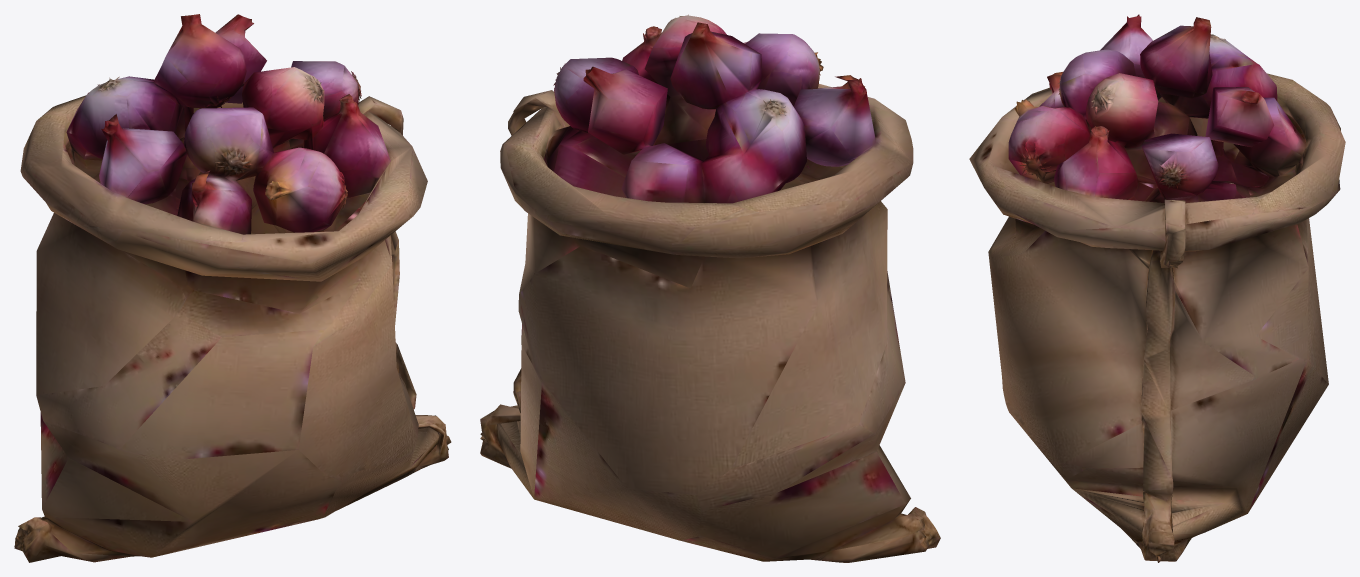
The model's file is onions.glb.
The picture shows the model from 3 angles, left to right: view 1: azimuth 30°, elevation 25°; view 2: azimuth 150°, elevation 25°; view 3: azimuth 270°, elevation 25°; orthographic projection. The views are drawn at different scales.
Parts seen in each view (by area): view 1: node_0; view 2: node_0; view 3: node_0.
Boxes of the visible parts, box(x1,y1,x2,y2) form: node_0: box(14, 14, 451, 562); node_0: box(480, 14, 940, 562); node_0: box(969, 14, 1345, 562).
Size of the model in its own units: 0.8283 by 0.876 by 0.6766.
Materials: 1 (1 with a texture image).
